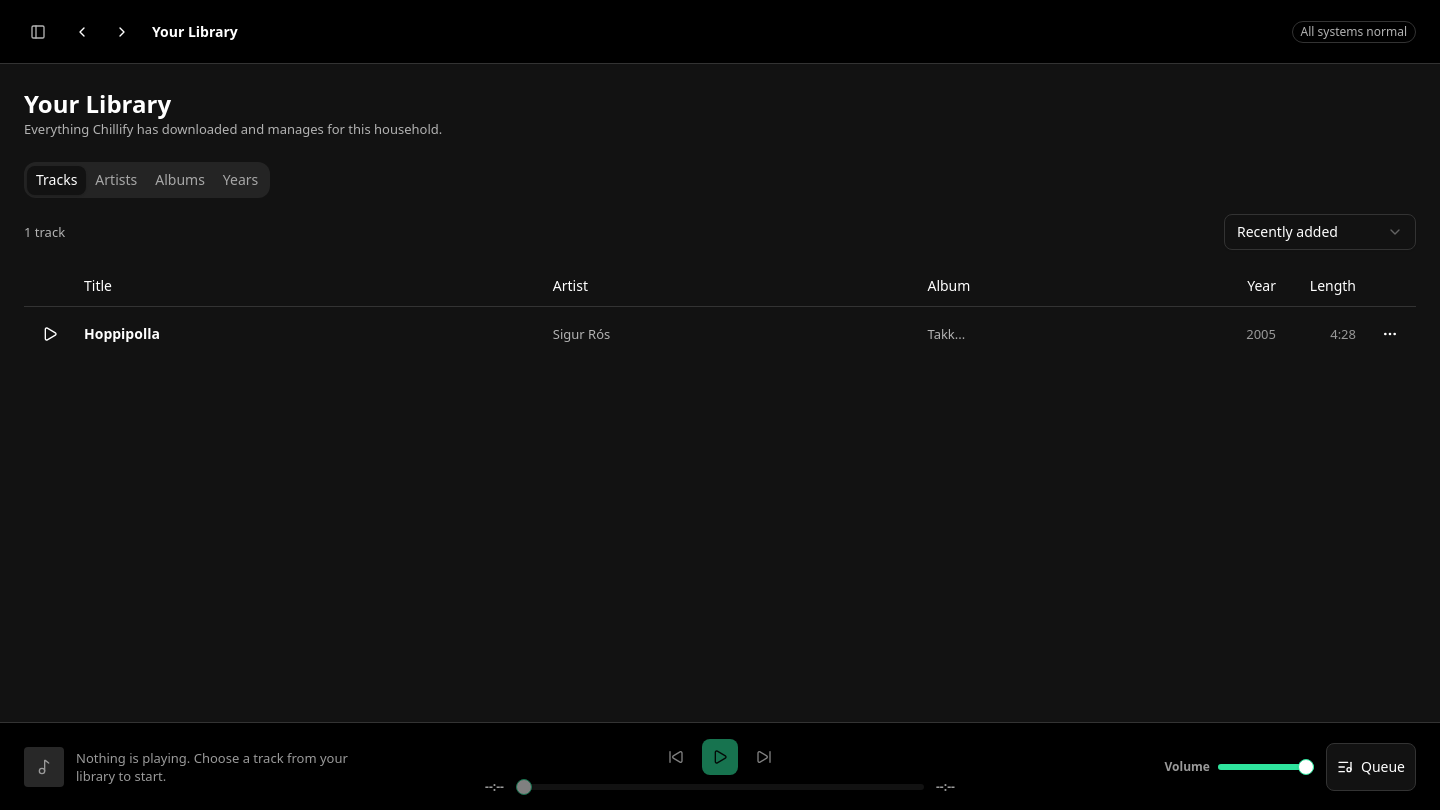
Scenario: S13 track editor › loads the complete record into its fields
This screenshot has width=1440, height=810.
Click the button named "actions for hoppipolla".
click(1390, 334)  # box [1372,316,1408,352]
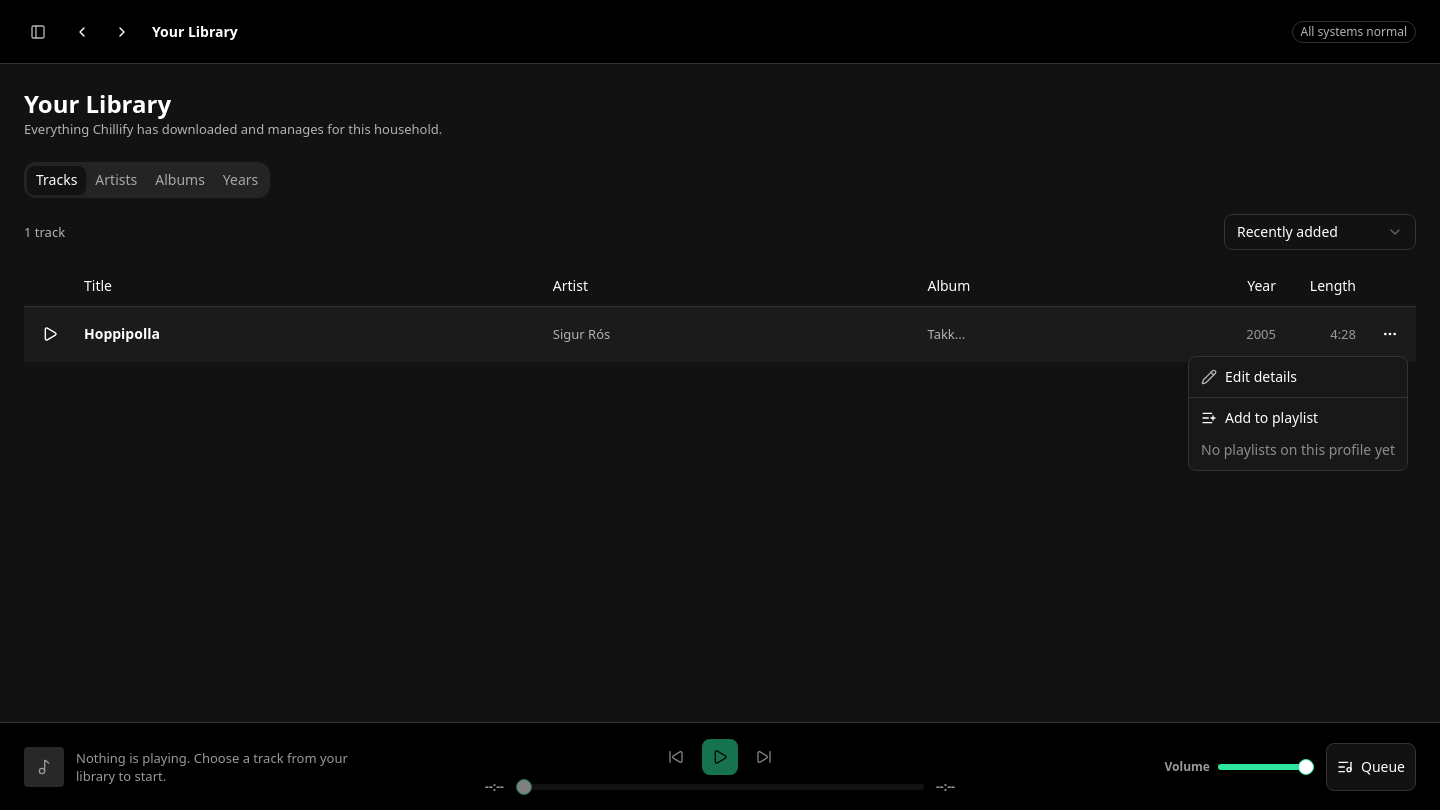
Click the menu item "Edit details".
click(1249, 376)  # box [1201,367,1297,386]
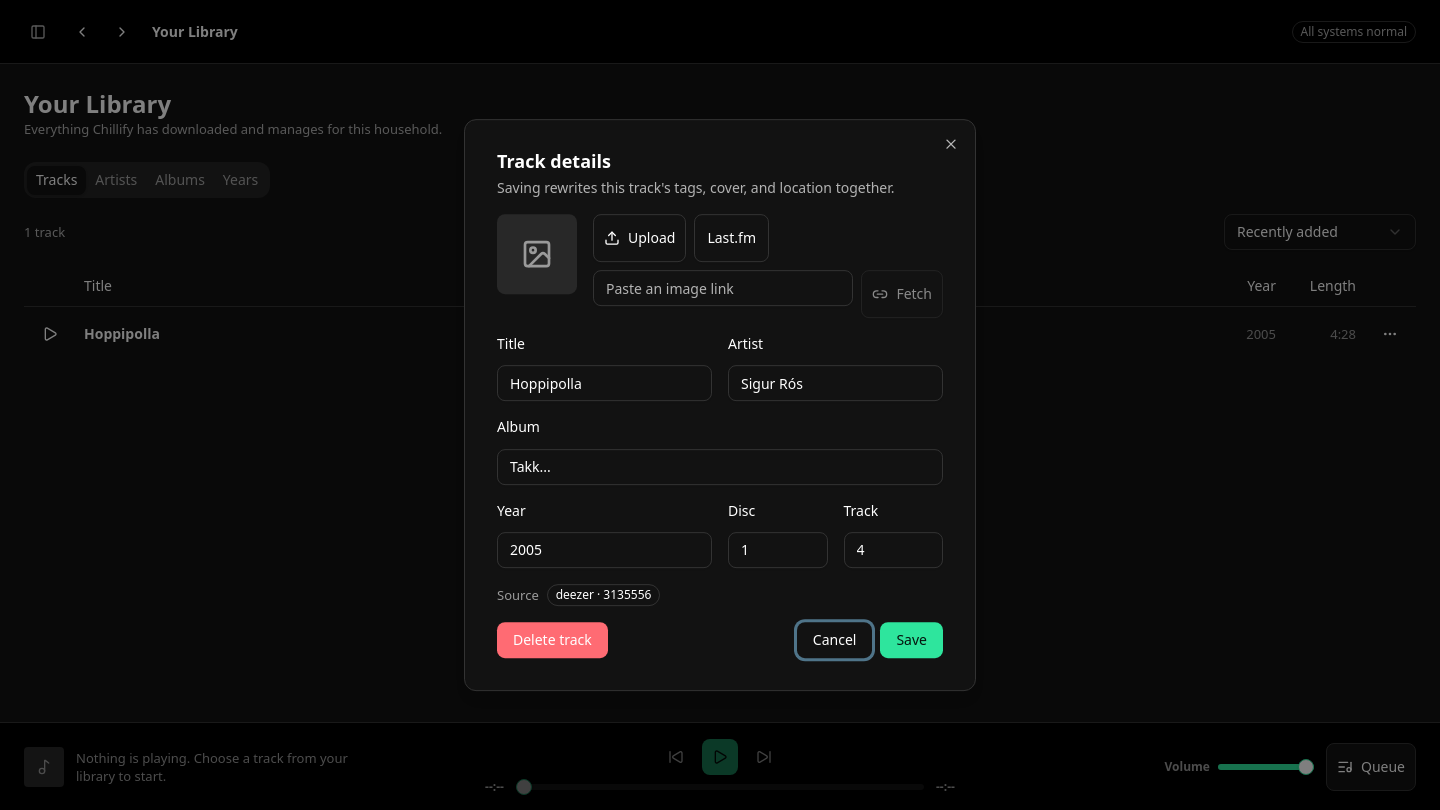
Result: the field labelled "Title" holds "Hoppipolla" at [497,365,712,401]
Result: the field labelled "Artist" holds "Sigur Rós" at [728,365,943,401]
Result: the field labelled "Album" holds "Takk..." at [497,449,943,485]
